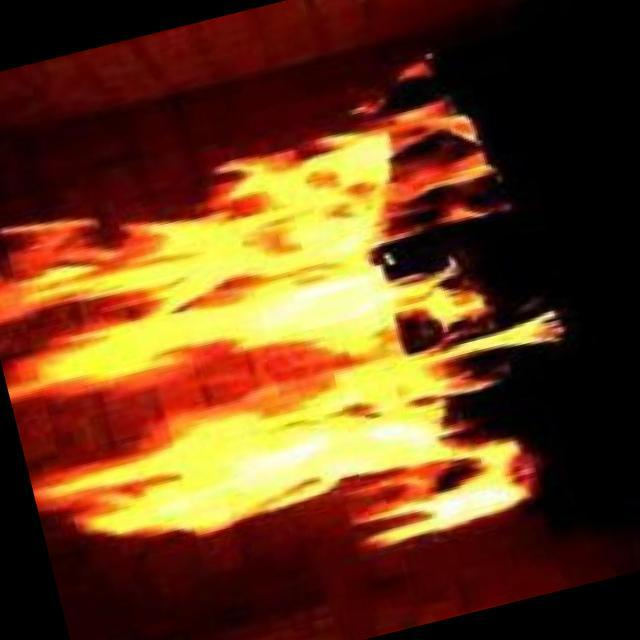Fire: (9, 134, 543, 582)
